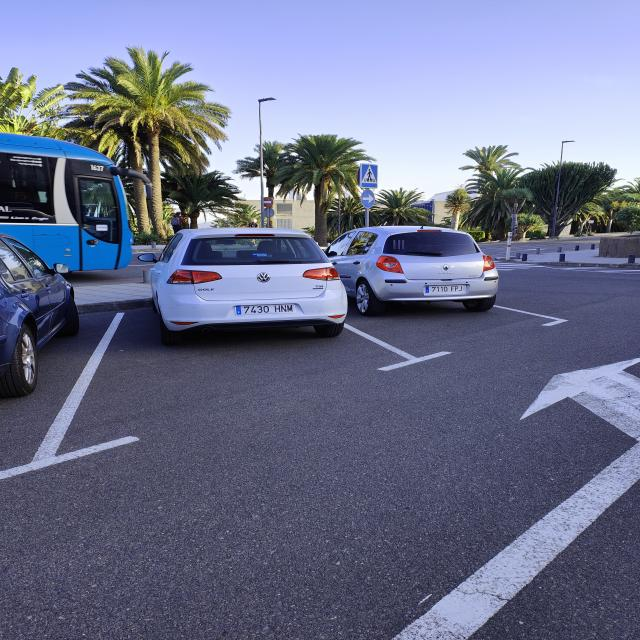License-Plate: (234, 304, 296, 316), (424, 285, 466, 293)
